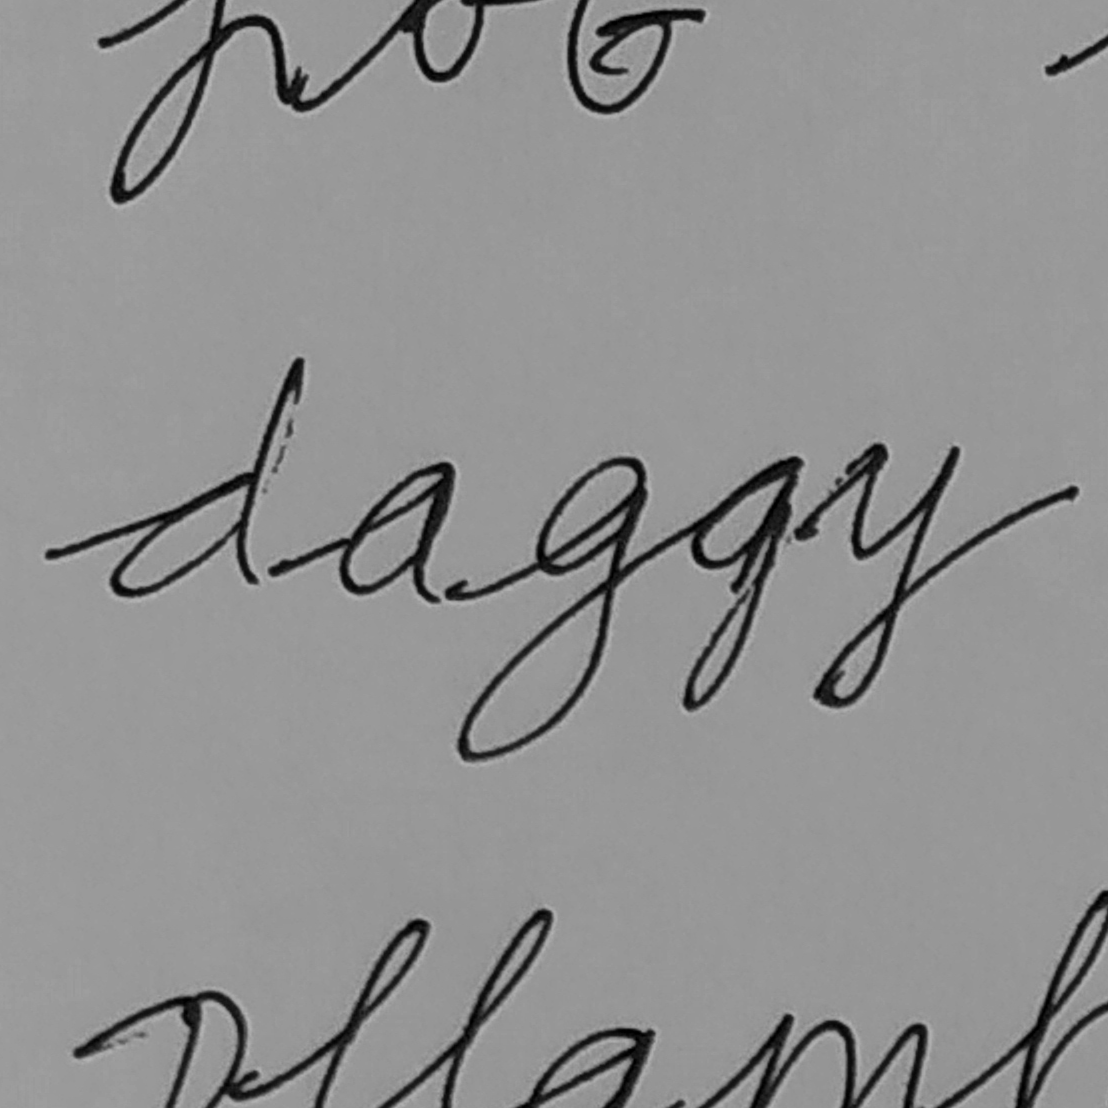a: (330, 455, 462, 609)
d: (106, 351, 307, 603)
g: (451, 451, 651, 765), (673, 451, 807, 716)
y: (810, 439, 962, 712)
